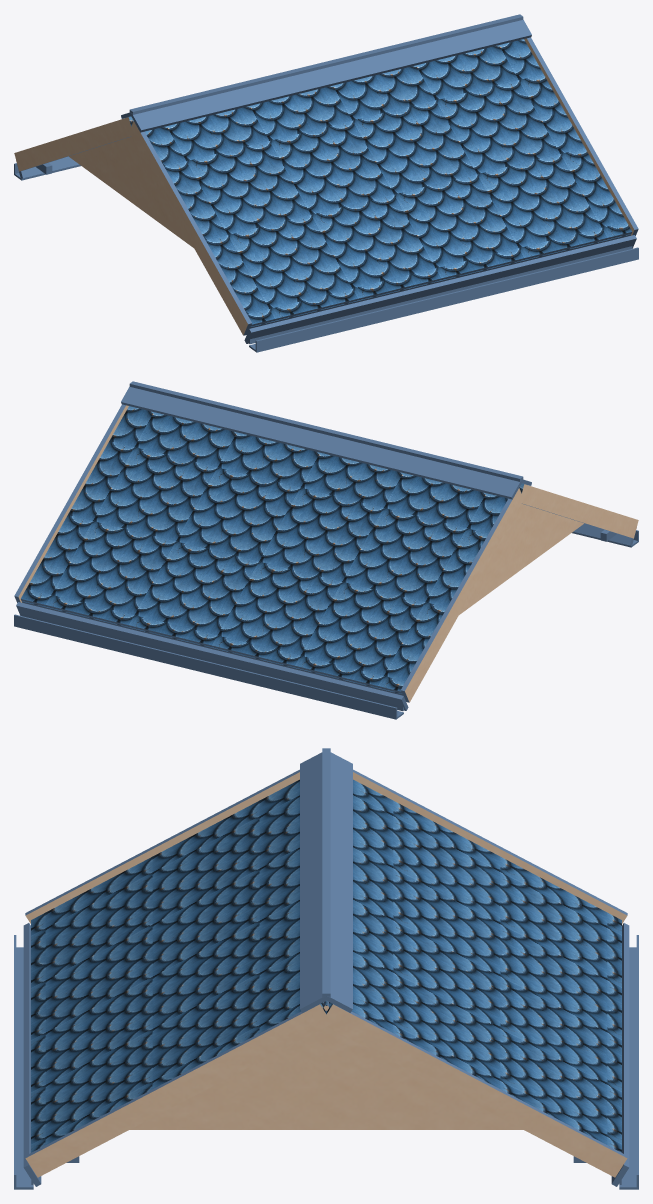
Rendered from Roof_Gable_4x4.fbx.
3 views of the same model, one above another, from view 1: azimuth 30°, elevation 25°; view 2: azimuth 150°, elevation 25°; view 3: azimuth 270°, elevation 25° (orthographic). The views are drawn at different scales.
Parts seen in each view (by area): view 1: Roof_Gable_4x4; view 2: Roof_Gable_4x4; view 3: Roof_Gable_4x4.
Part boxes in pixels (left/top/right/bottom): Roof_Gable_4x4: left=14, top=14, right=638, bottom=352; Roof_Gable_4x4: left=14, top=381, right=638, bottom=719; Roof_Gable_4x4: left=14, top=748, right=638, bottom=1189.
Size of the model in its own units: 4.7 by 1.77 by 5.06.
2 materials, 2 textured.
